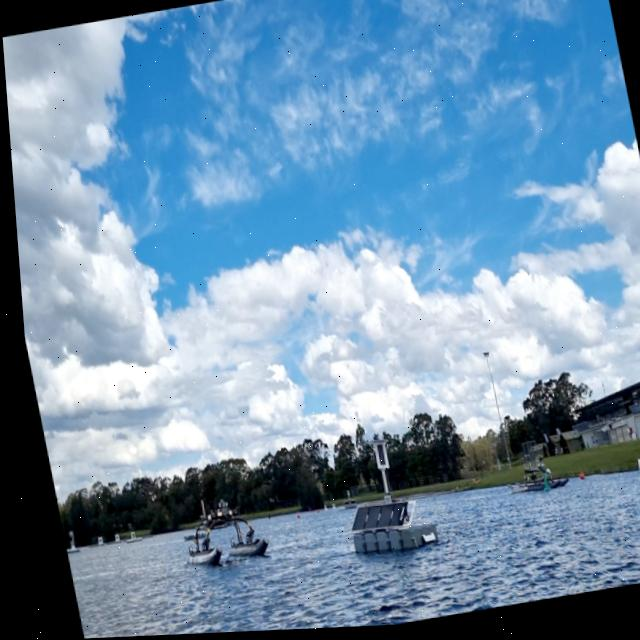led: (367, 445, 380, 471)
